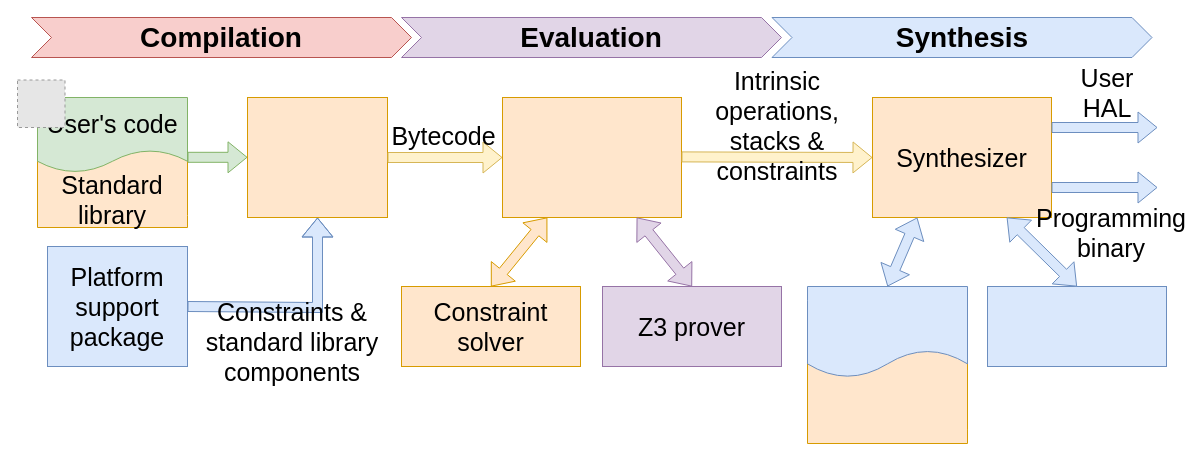
This 1203x461 diagram has some shape labels left out. Grey dashed boxes stand in for pictures. Here are the shapes that lost their labels. From the top down, the box of each, then its label:
(246, 96, 388, 218): Compiler
(502, 96, 682, 218): Virtual machine
(806, 286, 968, 378): Platform HAL generator
(986, 286, 1166, 366): Place-and-route
(806, 346, 968, 444): Base HAL generator
